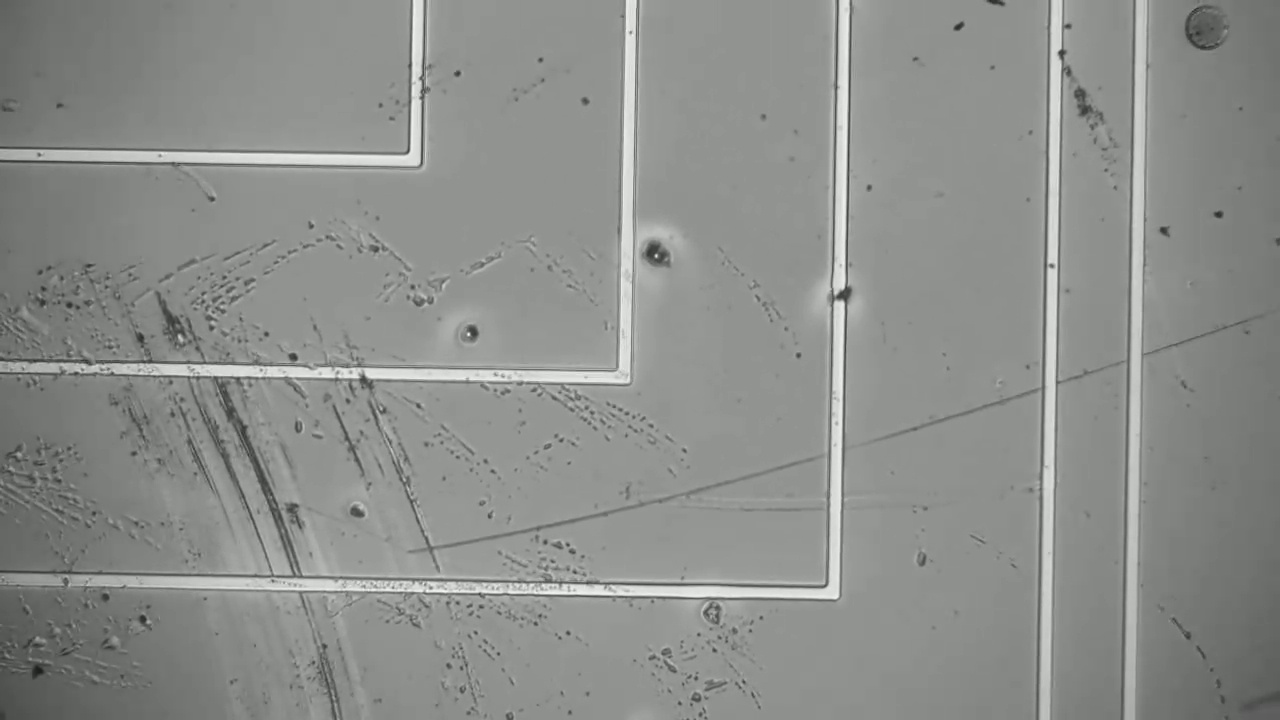scratch: (408, 324, 1240, 570), (166, 322, 355, 716), (355, 383, 447, 577), (1117, 590, 1240, 717)
stains_enbedded: (809, 271, 867, 321)
